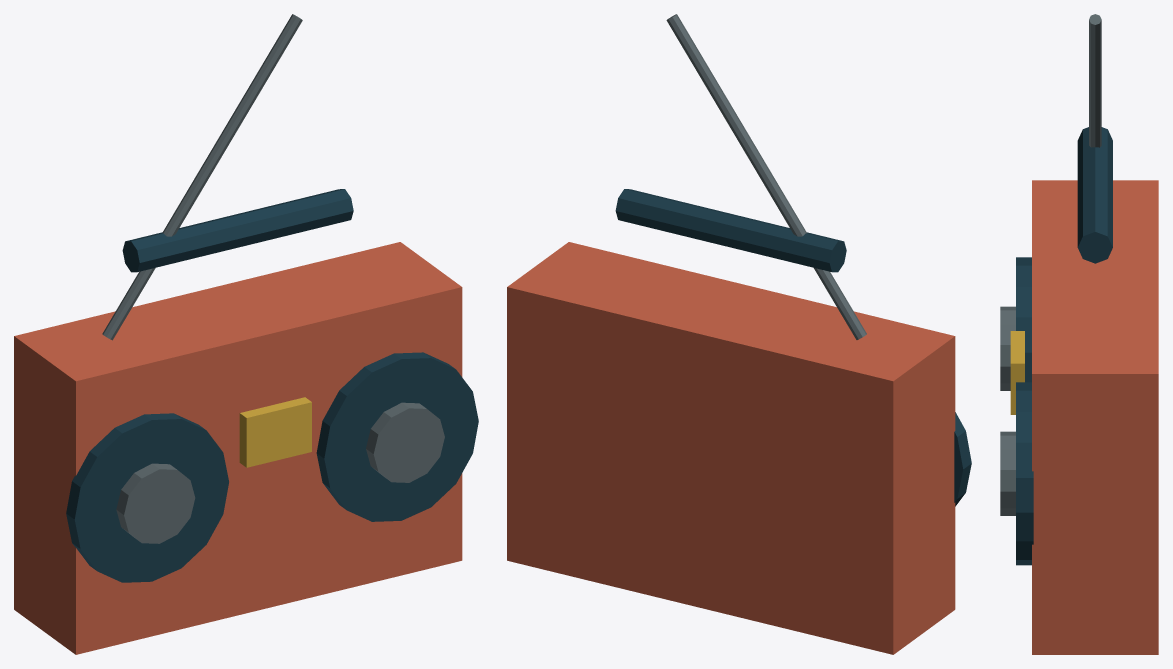
File: beach_radio.glb
3 views of the same model, side by side, from view 1: azimuth 30°, elevation 25°; view 2: azimuth 150°, elevation 25°; view 3: azimuth 270°, elevation 25° (orthographic). The views are drawn at different scales.
Parts seen in each view (by area): view 1: beach_radio_pc; view 2: beach_radio_pc; view 3: beach_radio_pc.
Boxes of the visible parts, left/top/right/bottom form: beach_radio_pc: left=14, top=14, right=478, bottom=654; beach_radio_pc: left=507, top=14, right=971, bottom=654; beach_radio_pc: left=1000, top=14, right=1158, bottom=654.
Bounding box in the file's own units: 0.68 × 0.8953 × 0.225.
